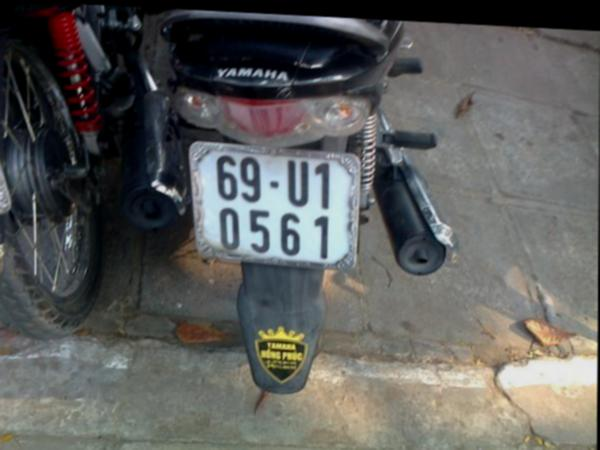License_Plate: (197, 145, 358, 266)
